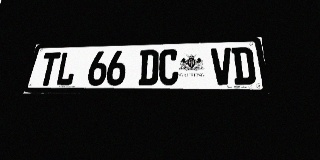6: (87, 51, 109, 86), (105, 50, 127, 85)
C: (158, 49, 178, 85)
D: (231, 47, 257, 85), (138, 49, 159, 85)
L: (55, 52, 78, 86)
T: (37, 52, 61, 86)
V: (211, 48, 234, 85)
